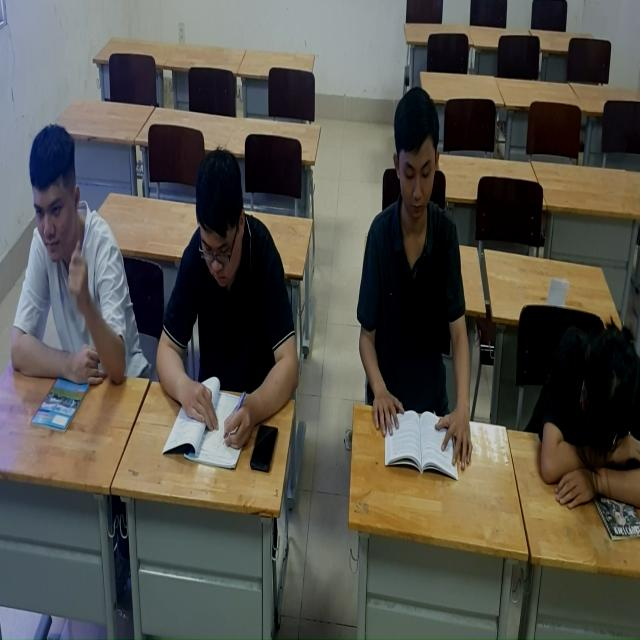raise_hand: (1, 86, 142, 400)
read: (353, 68, 480, 485), (151, 140, 303, 473)
sleep: (541, 285, 640, 514)
